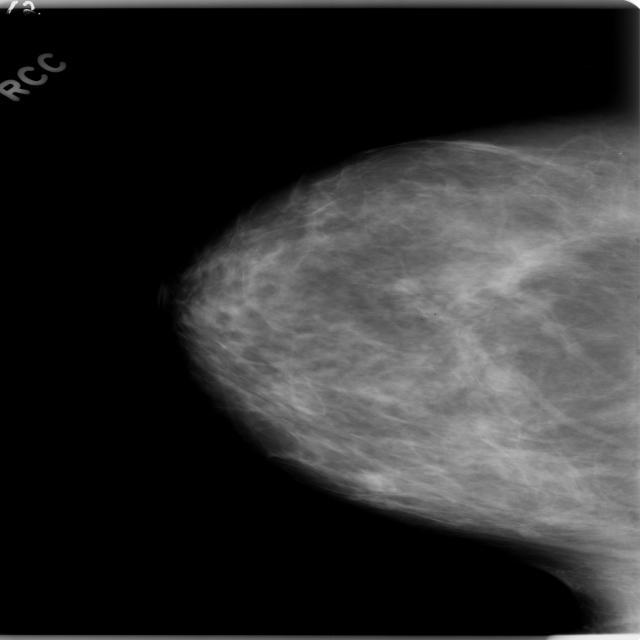normal: (182, 108, 640, 559)
